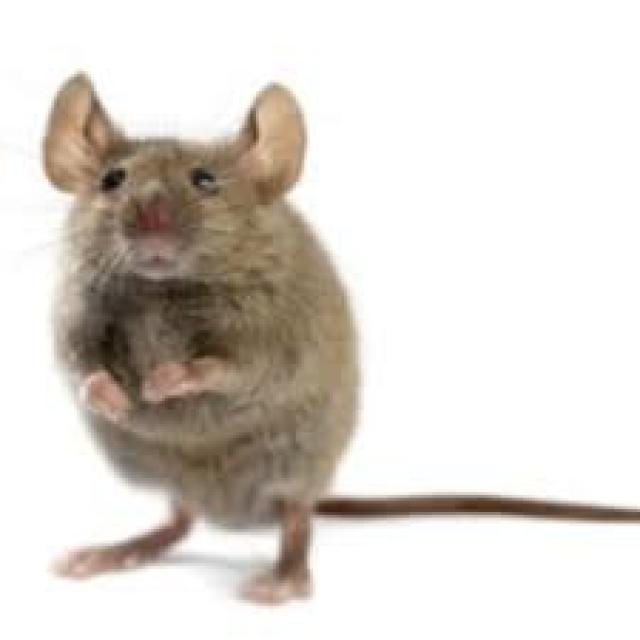Mouse: (36, 66, 410, 608)
